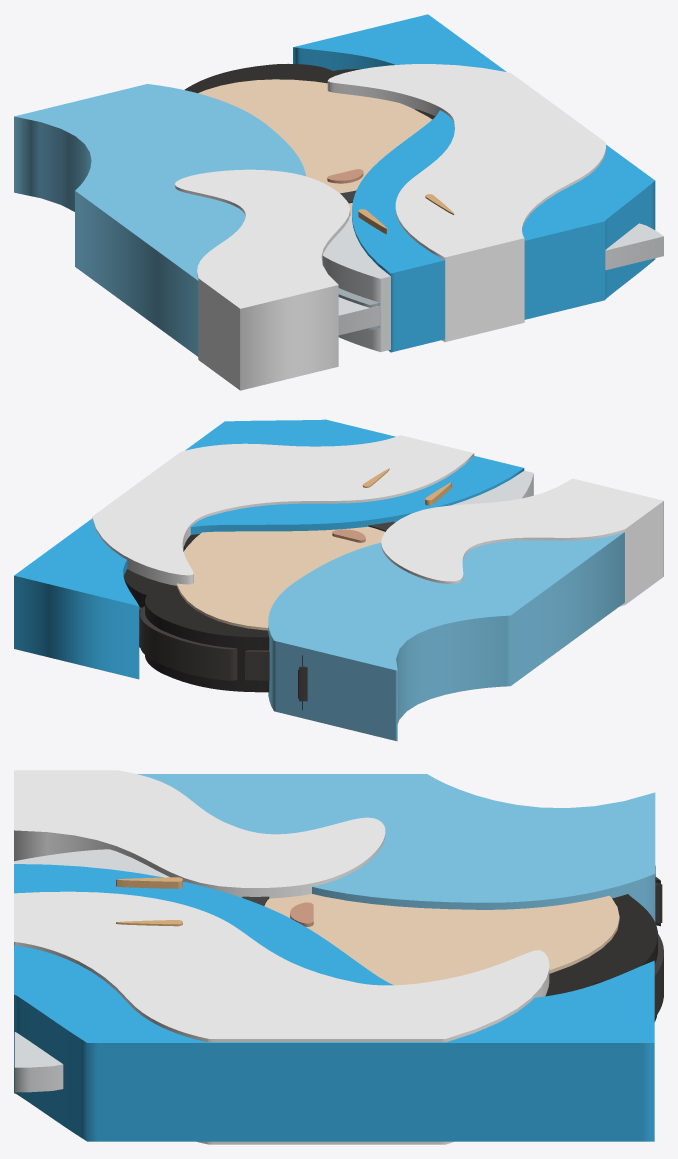
Rendered from emoji_u1f9d6_1f3fb.glb.
3 renders of one model, top to bottom at view 1: azimuth 30°, elevation 25°; view 2: azimuth 150°, elevation 25°; view 3: azimuth 270°, elevation 25°, orthographic. The views are drawn at different scales.
Visible parts, largest first — view 1: emoji_u1f9d6_1f3fb; view 2: emoji_u1f9d6_1f3fb; view 3: emoji_u1f9d6_1f3fb.
Boxes of the visible parts, bbox=[...] form: emoji_u1f9d6_1f3fb: bbox=[14, 14, 663, 390]; emoji_u1f9d6_1f3fb: bbox=[14, 419, 663, 741]; emoji_u1f9d6_1f3fb: bbox=[14, 770, 663, 1144].
Bounding box in the file's own units: 0.033 × 0.0064 × 0.0334.
